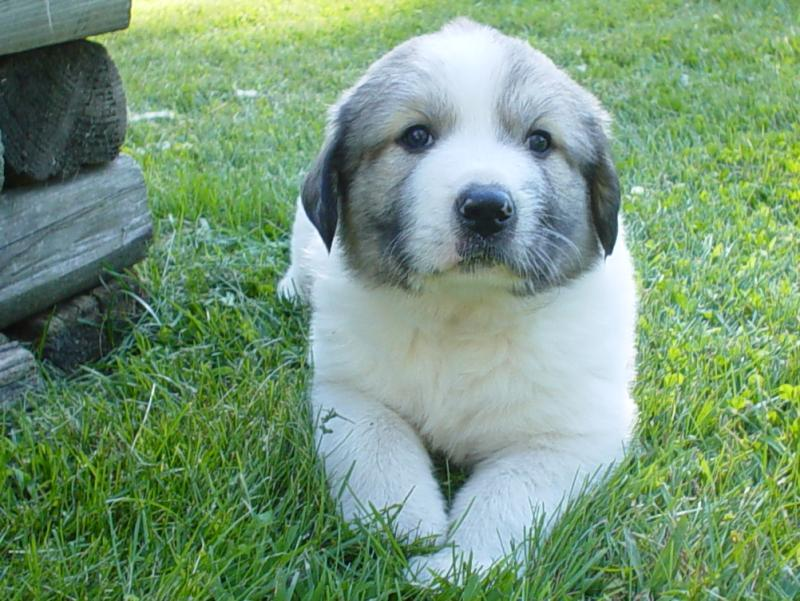Great_Pyrenees: (275, 7, 646, 591)
